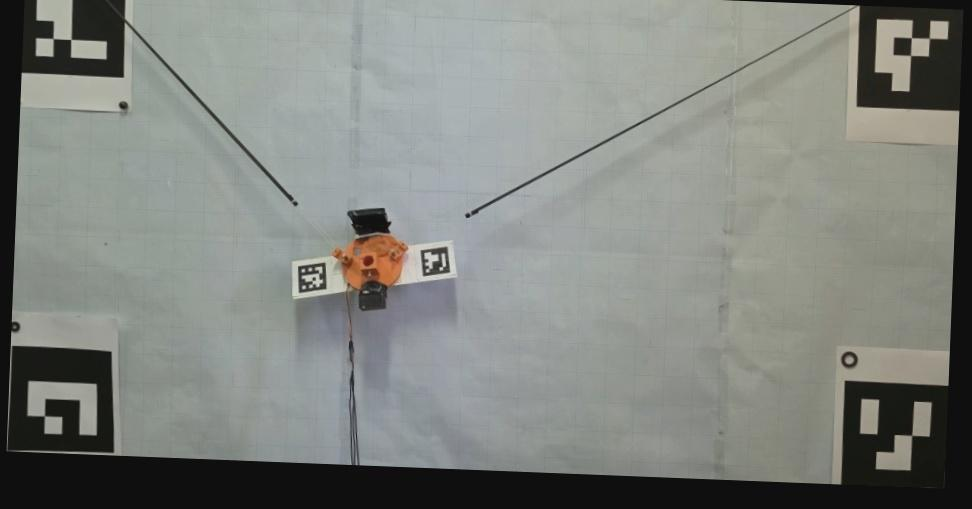robot: (331, 206, 412, 313)
